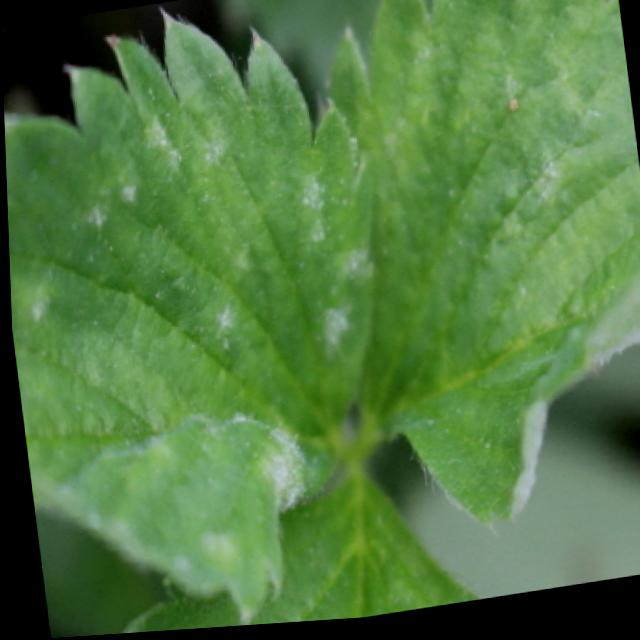Powdery Mildew Leaf: (3, 9, 377, 628), (322, 0, 640, 543)
